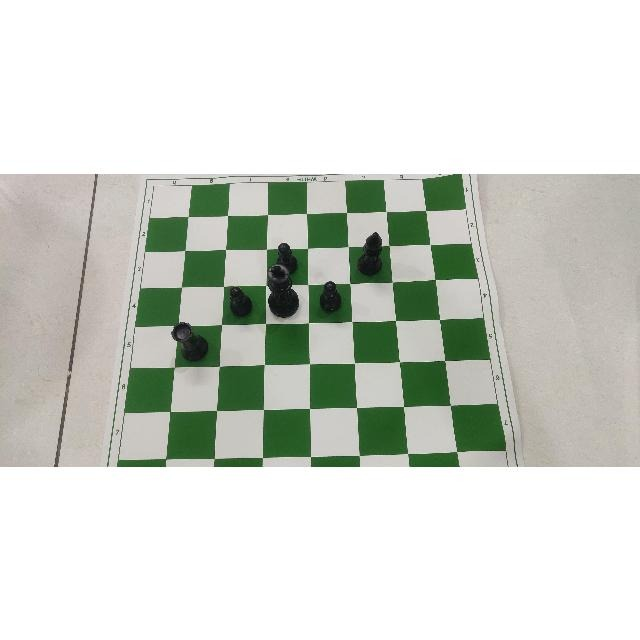black-bishop: (353, 229, 388, 281)
black-king: (264, 266, 302, 318)
black-pawn: (272, 235, 306, 270), (316, 278, 346, 317), (226, 284, 258, 317)
black-rook: (169, 320, 211, 362)
